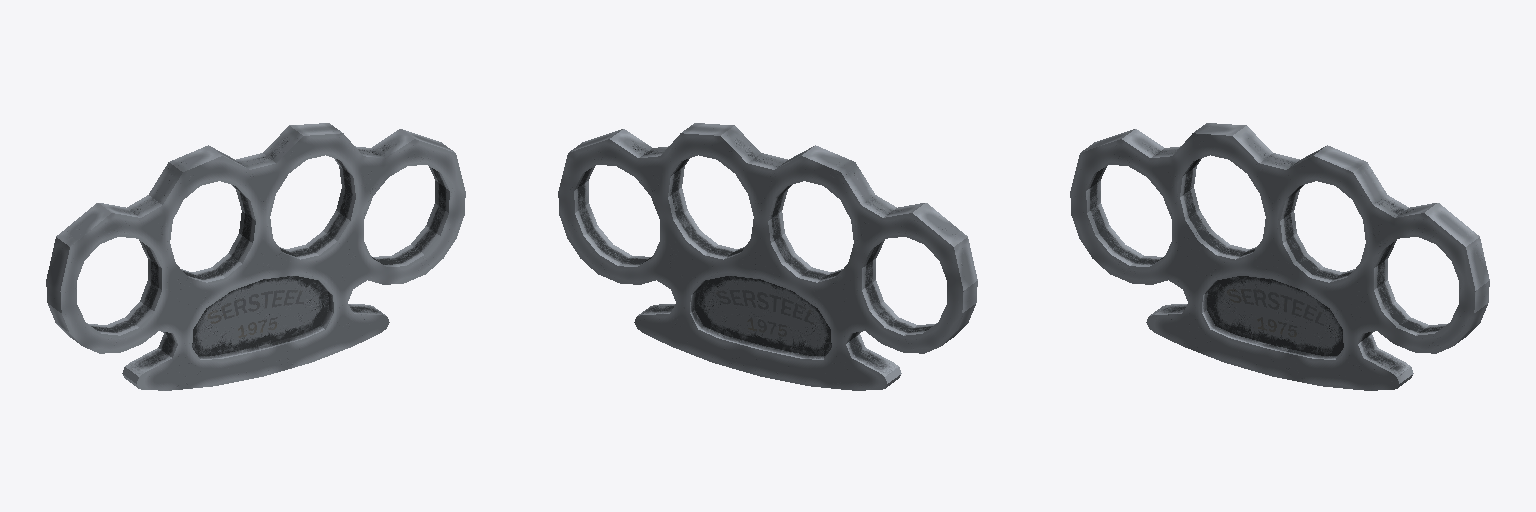
3 views of the same model, side by side, from view 1: azimuth 30°, elevation 25°; view 2: azimuth 150°, elevation 25°; view 3: azimuth 330°, elevation 25° (orthographic).
Visible parts, largest first — view 1: Cube.001__0_Cube.001__0.001; view 2: Cube.001__0_Cube.001__0.001; view 3: Cube.001__0_Cube.001__0.001.
Boxes of the visible parts, <box> form: Cube.001__0_Cube.001__0.001: <box>46,123,465,390</box>; Cube.001__0_Cube.001__0.001: <box>558,123,977,390</box>; Cube.001__0_Cube.001__0.001: <box>1070,123,1489,390</box>.
Bounding box in the file's own units: 0.1691 × 0.092 × 0.0103.
Materials: 1 (1 with a texture image).